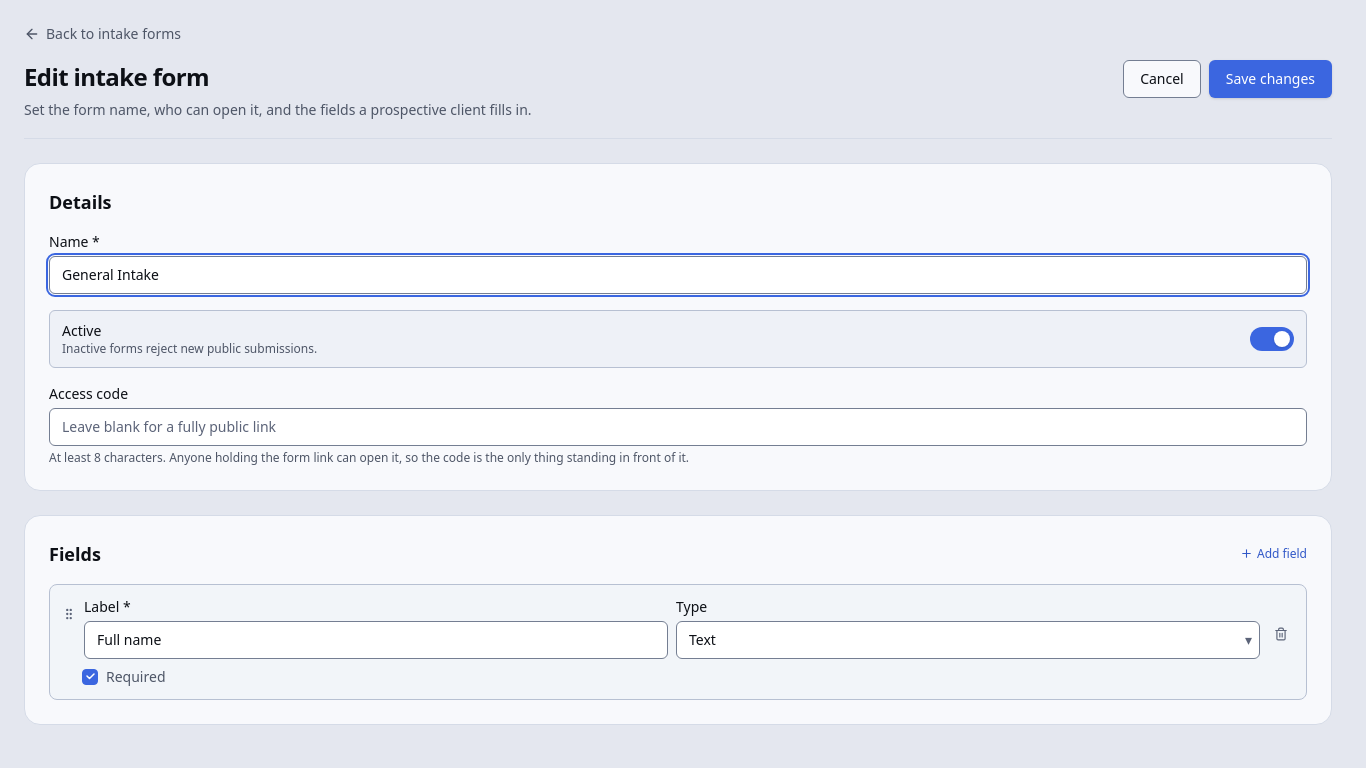
Scenario: IntakeFormEditor › stays on the page and shows the error when the save is rejected
This screenshot has width=1366, height=768.
expect the field labelled "Name *" is shown: met, box x1=49 y1=256 x2=1307 y2=294
What coordinates should you click on to do the following:
click the button "Save changes"
I would click on:
 (1270, 79)
Its box is x1=1209 y1=60 x2=1332 y2=98.
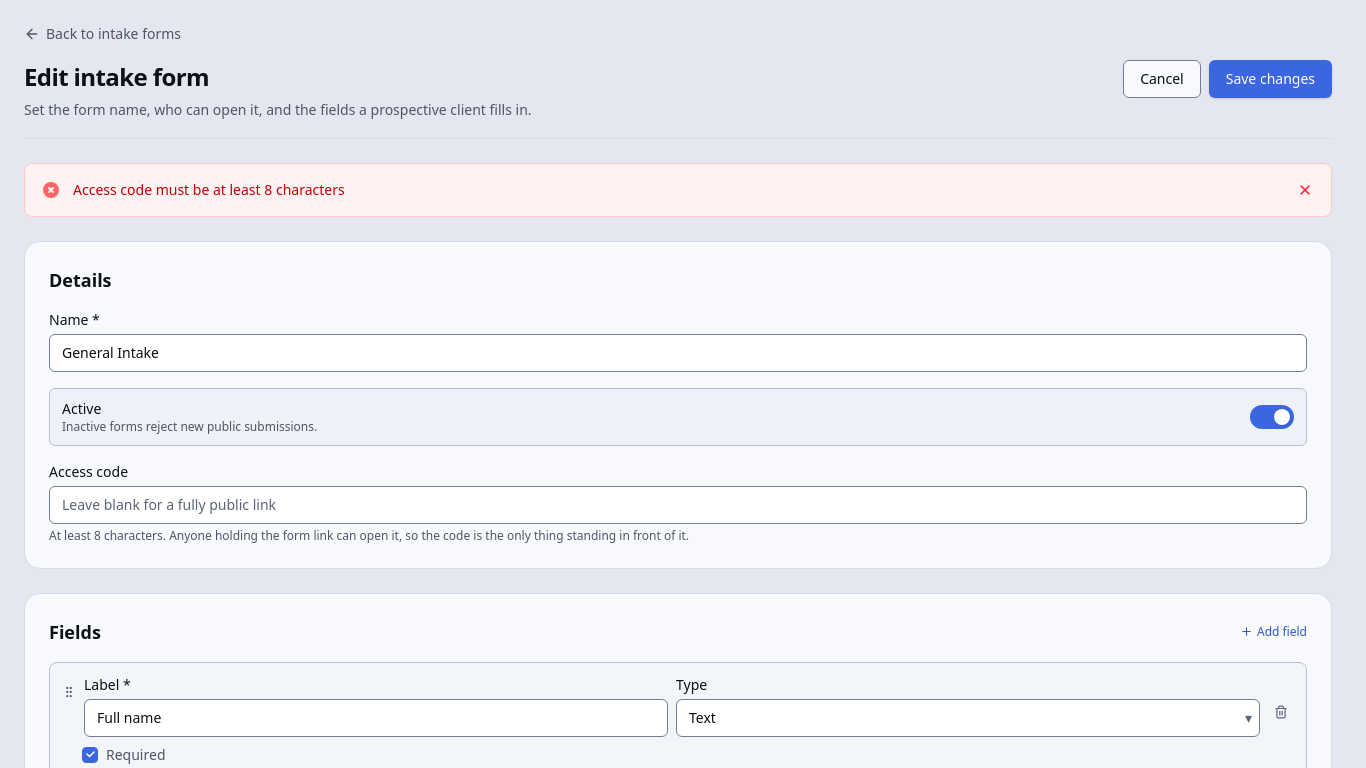
expect the text "Access code must be at least 8 characters" is shown: met, box x1=73 y1=180 x2=345 y2=199
